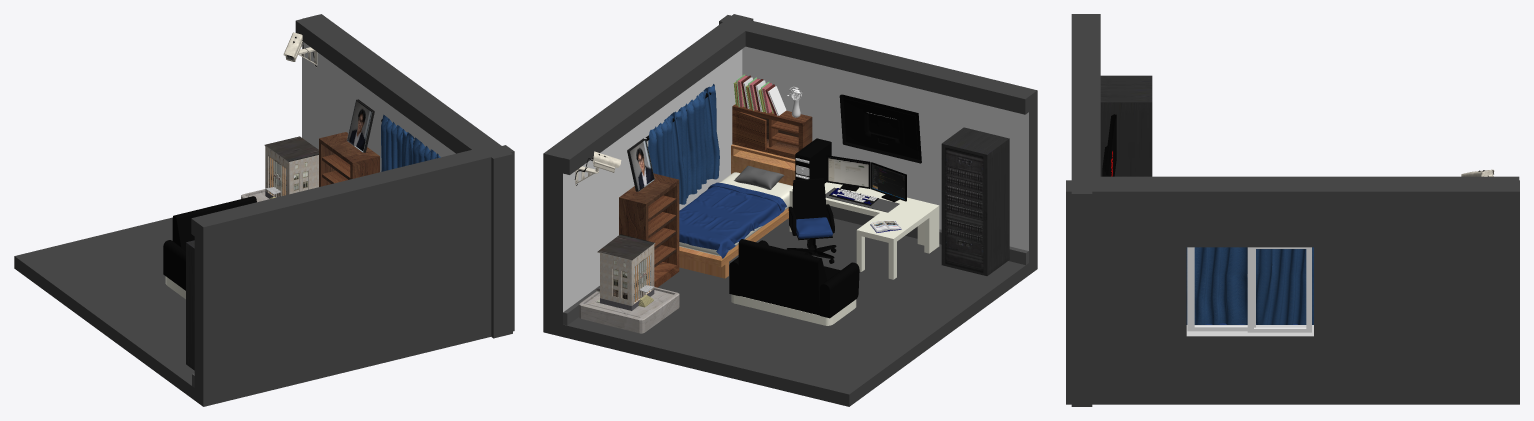
File: PORTOFOLIO_V2.glb
3 renders of one model, left to right at view 1: azimuth 30°, elevation 25°; view 2: azimuth 150°, elevation 25°; view 3: azimuth 270°, elevation 25°, orthographic. The views are drawn at different scales.
Visible parts, largest first — view 1: Cube.002, Lemari_5, Bwhan Sofa_7, Gorden 2_135, POTOFOLIO_MINIATURE_01, POTOFOLIO_WEBSITE, POTOFOLIO_ABOUT, POTOFOLIO_MINIATURE_02, POTOFOLIO_MINIATURE_03, POTOFOLIO_COMPUTER_VISION; view 2: Cube.002, Selimut_4, POTOFOLIO_WEBSITE, Bwhan Sofa_7, Lemari_5, POTOFOLIO_CHATBOT, Tv_9, Meja_2, Gorden 1_134, Lemari Kecil_6, handle tangan kiri_123, Cube.001 (+7 smaller); view 3: Cube.002, POTOFOLIO_WEBSITE, Gorden 1_134, Gorden 2_135, Jendela 1_136, Jendela 2_137, Tv_9.
Part boxes in pixels (x1,y1,x2,y2): Cube.002: (14, 14, 514, 406); Lemari_5: (319, 132, 379, 186); Bwhan Sofa_7: (163, 196, 256, 299); Gorden 2_135: (381, 114, 414, 171); POTOFOLIO_MINIATURE_01: (264, 136, 318, 172); POTOFOLIO_WEBSITE: (186, 240, 194, 370); POTOFOLIO_ABOUT: (347, 99, 374, 152); POTOFOLIO_MINIATURE_02: (265, 155, 318, 184); POTOFOLIO_MINIATURE_03: (265, 168, 318, 194); POTOFOLIO_COMPUTER_VISION: (283, 32, 317, 67); Cube.002: (543, 14, 1037, 406); Selimut_4: (679, 144, 795, 278); POTOFOLIO_WEBSITE: (941, 127, 1009, 275); Bwhan Sofa_7: (729, 239, 859, 325); Lemari_5: (619, 173, 679, 287); POTOFOLIO_CHATBOT: (795, 138, 906, 212); Tv_9: (839, 94, 921, 163); Meja_2: (789, 182, 939, 279); Gorden 1_134: (680, 84, 719, 198); Lemari Kecil_6: (732, 104, 812, 159); handle tangan kiri_123: (786, 178, 836, 263); Cube.001: (579, 287, 679, 333); Cube.002: (1066, 14, 1519, 406); POTOFOLIO_WEBSITE: (1100, 75, 1152, 176); Gorden 1_134: (1186, 247, 1247, 324); Gorden 2_135: (1244, 247, 1313, 324); Jendela 1_136: (1247, 247, 1311, 332); Jendela 2_137: (1187, 247, 1255, 331); Tv_9: (1102, 114, 1116, 176).
Size of the model in its own units: 43.26 by 23.87 by 46.11.
62 materials, 40 textured.
